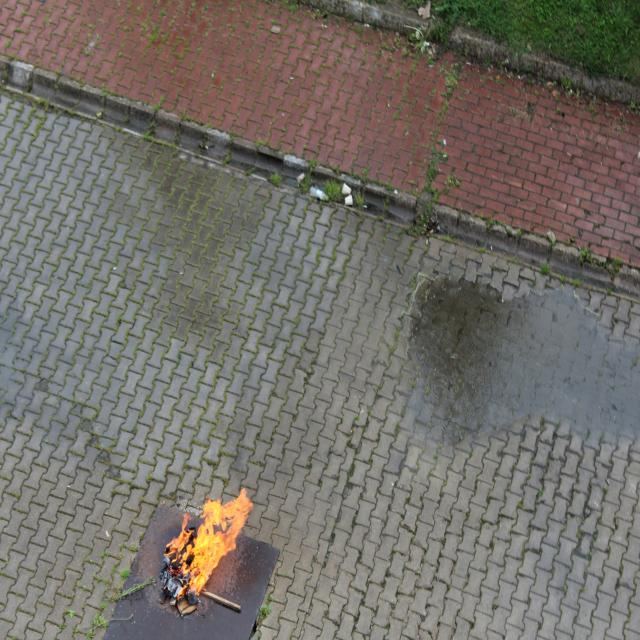fire: (156, 482, 260, 590)
